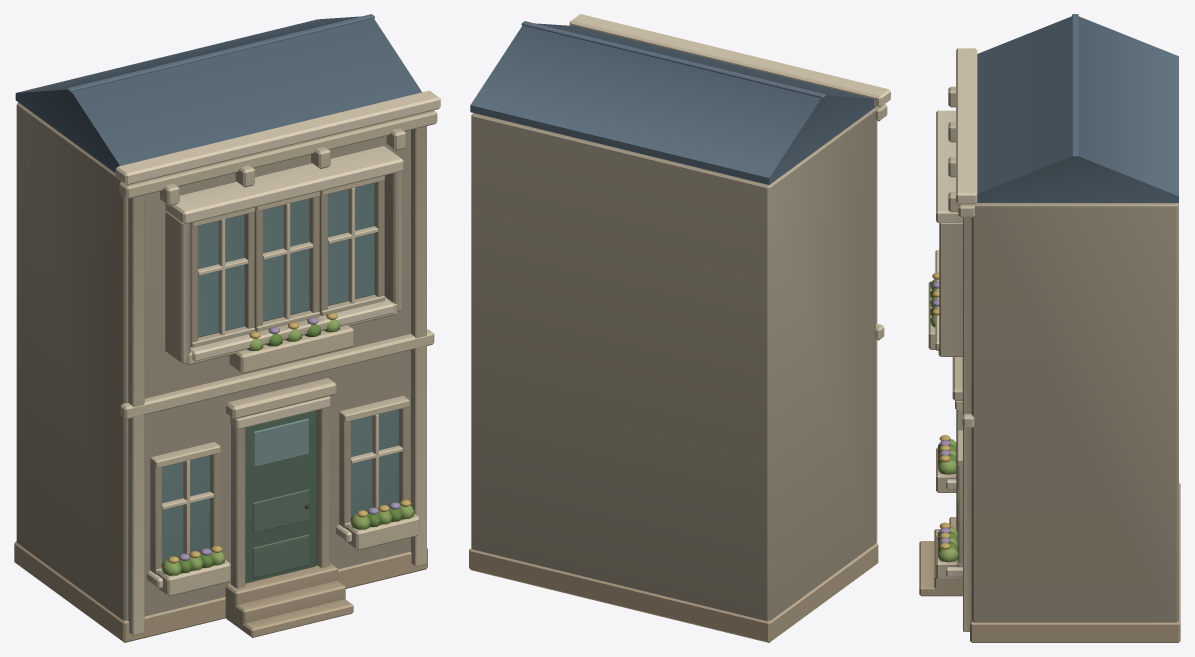
File: facade_sf_2.glb
3 views of the same model, side by side, from view 1: azimuth 30°, elevation 25°; view 2: azimuth 150°, elevation 25°; view 3: azimuth 270°, elevation 25° (orthographic). The views are drawn at different scales.
Parts seen in each view (by area): view 1: facade_sf_2; view 2: facade_sf_2; view 3: facade_sf_2.
Boxes of the visible parts, <box> form: facade_sf_2: <box>14,14,440,642</box>; facade_sf_2: <box>469,14,890,642</box>; facade_sf_2: <box>919,14,1180,642</box>.
Bounding box in the file's own units: 4.18 × 6.51 × 3.15.
